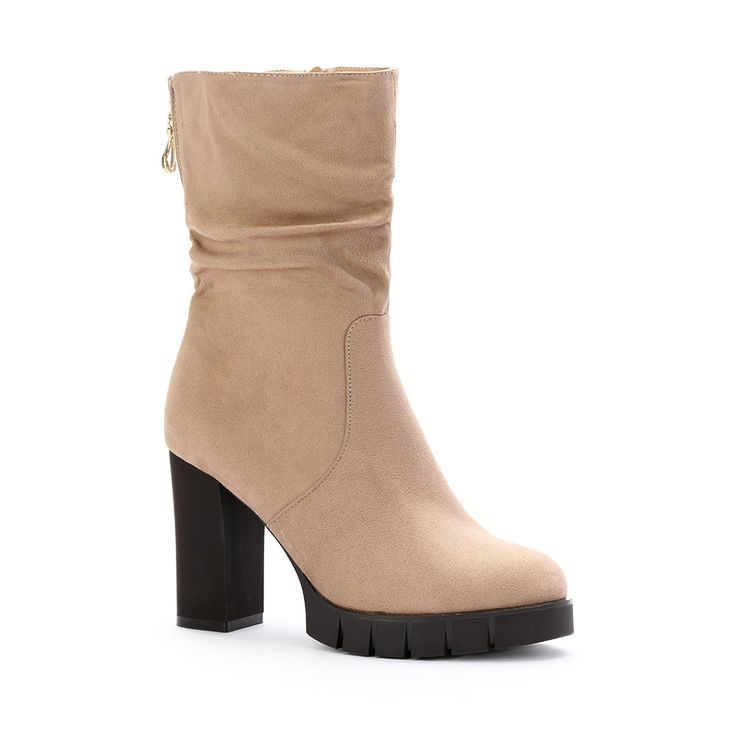gamuza: (162, 66, 567, 614)
